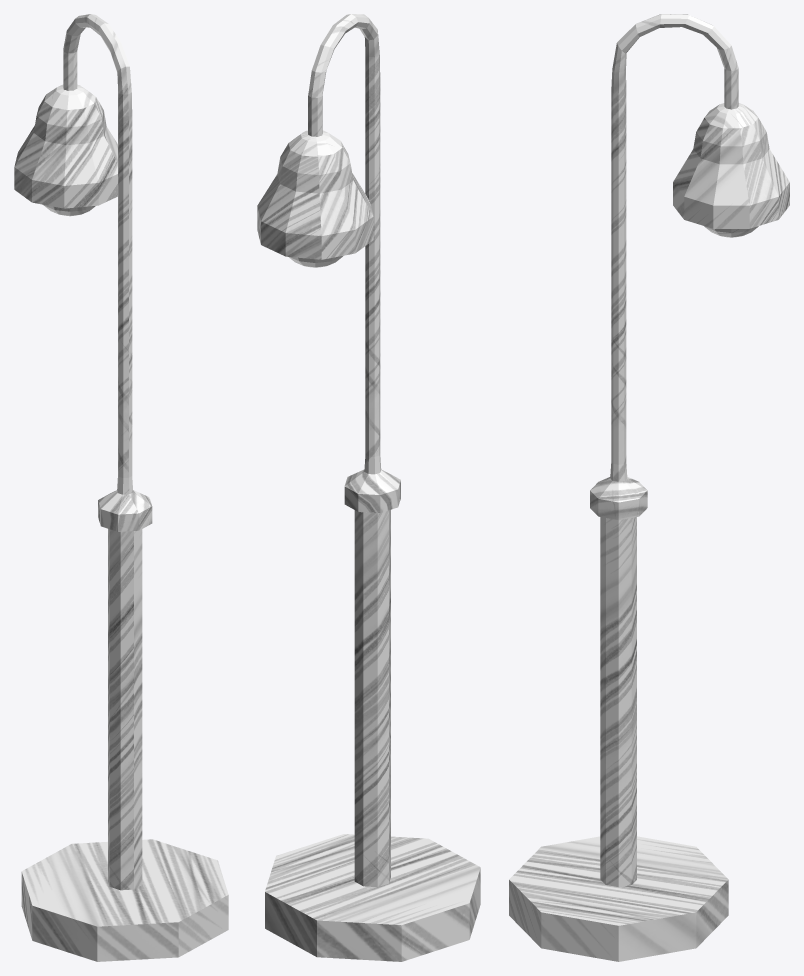
The model's file is street_lamp.fbx.
3 views of the same model, side by side, from view 1: azimuth 30°, elevation 25°; view 2: azimuth 150°, elevation 25°; view 3: azimuth 270°, elevation 25° (orthographic). The views are drawn at different scales.
Visible parts, largest first — view 1: street_lamp; view 2: street_lamp; view 3: street_lamp.
Part boxes in pixels (left/top/right/bottom): street_lamp: left=14, top=14, right=228, bottom=961; street_lamp: left=257, top=14, right=480, bottom=961; street_lamp: left=509, top=14, right=789, bottom=961.
Size of the model in its own units: 102 by 464 by 131.
